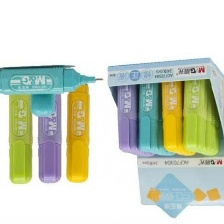book: (103, 55, 223, 222)
correction_fluid: (0, 62, 105, 96), (63, 77, 94, 186), (5, 76, 35, 187), (35, 78, 63, 187), (133, 67, 163, 152), (180, 66, 209, 153), (159, 70, 188, 153), (115, 70, 140, 154)
